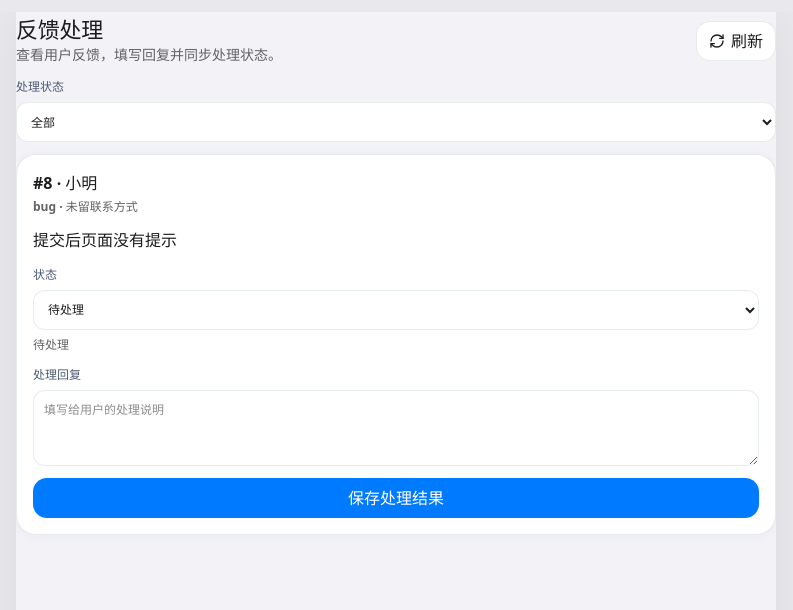
it: AdminFeedback › loads feedback and persists a status and reply through the admin API
Select "已解决" in the dropdown with test id "admin-feedback-status-8": (396,310) [33,290,759,330]
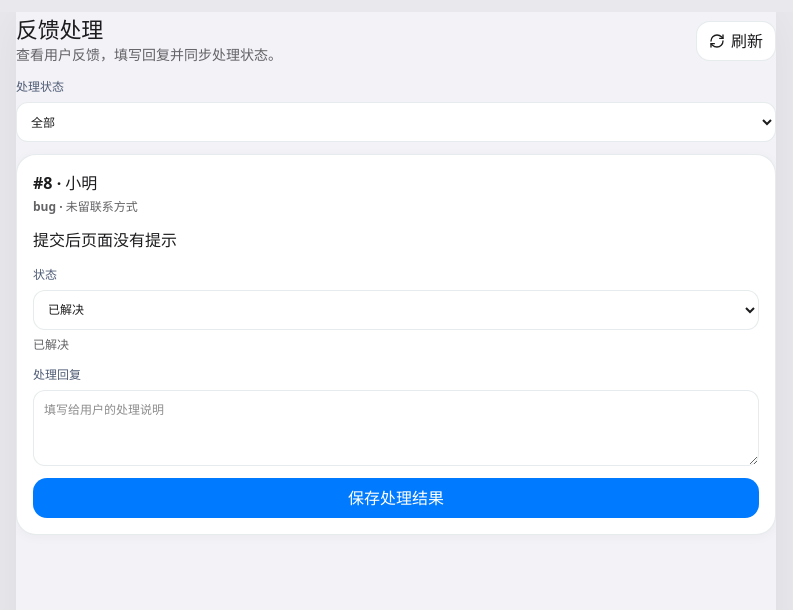
In the text box with test id "admin-feedback-reply-8": (396,428) [33,390,759,466], type "已修复，请刷新页面后重试。"
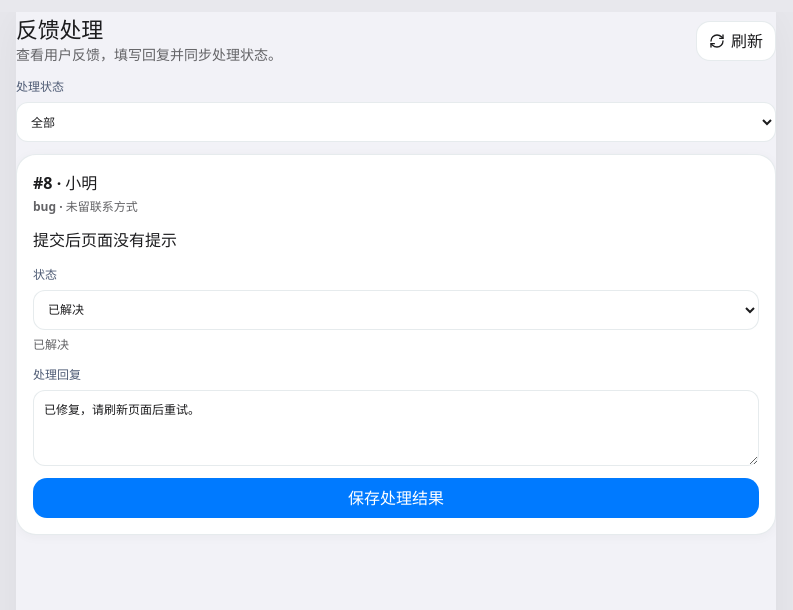
Click the button with test id "admin-feedback-save-8": (396,498) [33,478,759,518]
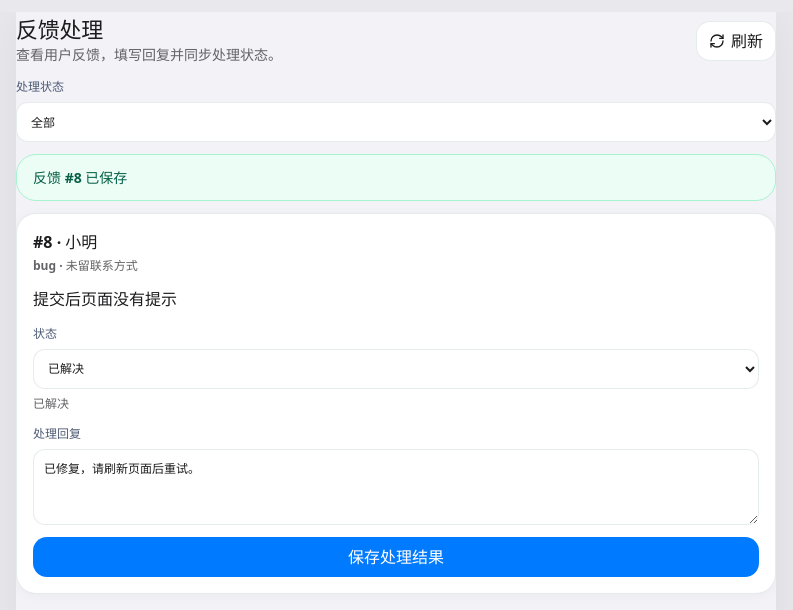
expect the text "反馈 #8 已保存" is shown: met, box [16,154,776,201]
